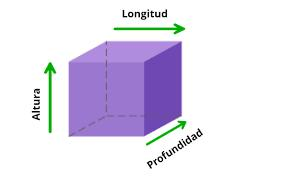cubos: (66, 38, 184, 142)
